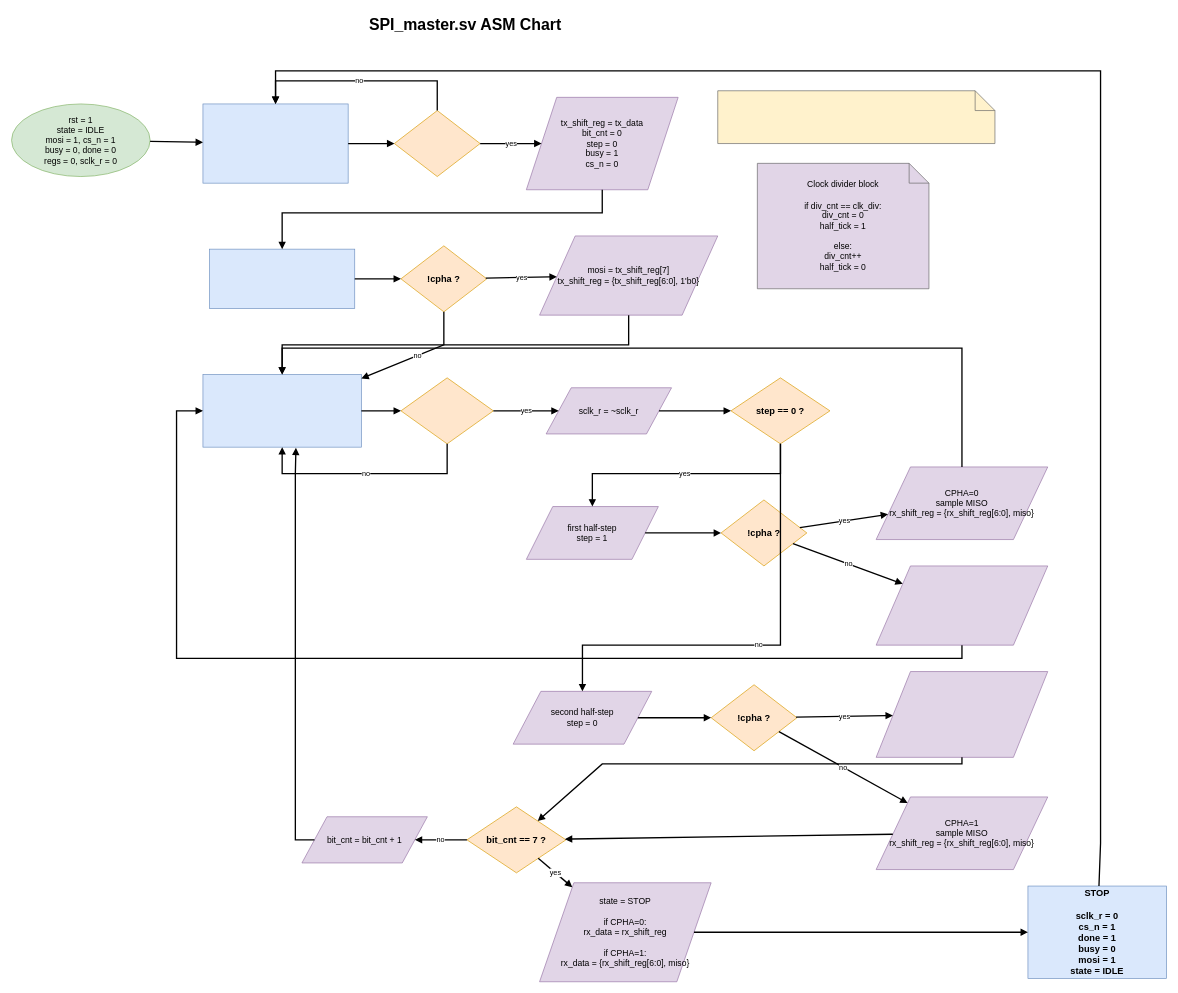
This 1178x993 diagram has some shape labels left out. The centre of each missing label's shape, as x and y in pixels:
"ASM 기준: 상태 박스는 state 동작, 마름모는 조건 분기, 평행사변형은 조건부 출력/레지스터 갱신" goes at (x=856, y=117).
"CPHA=0 if bit_cnt < 7: mosi = tx_shift_reg[7] tx_shift_reg shifts left" goes at (x=961, y=714).
"CPHA=1 drive MOSI mosi = tx_shift_reg[7] tx_shift_reg shifts left" goes at (x=961, y=605).
"DATA wait for half_tick then toggle SCLK and process step" goes at (x=281, y=410).
"half_tick ?" goes at (x=446, y=410).
"IDLE done = 0 mosi = 1 cs_n = 1 sclk_r = cpol" goes at (x=275, y=143).
"start ?" goes at (x=437, y=143).
"START prepare first bit only when CPHA=0" goes at (x=282, y=278).
